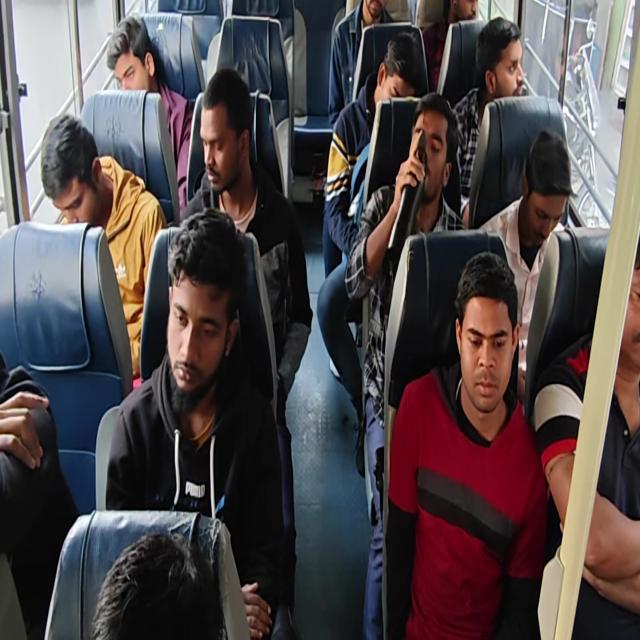person: (162, 198, 247, 419), (85, 532, 226, 640), (452, 245, 523, 418), (518, 121, 582, 254), (31, 107, 103, 223), (194, 66, 257, 193), (408, 79, 457, 227), (101, 17, 163, 103), (473, 17, 535, 103), (605, 232, 640, 364), (376, 36, 434, 100), (443, 0, 493, 29), (361, 0, 393, 21)
